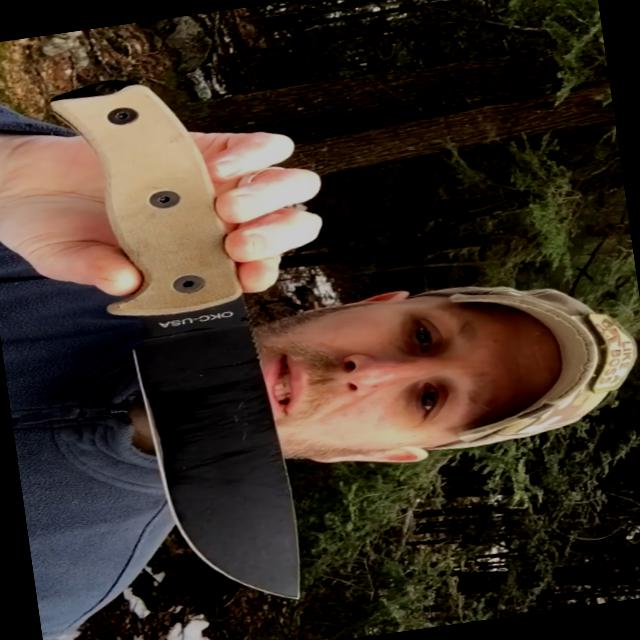knife: (73, 160, 384, 630)
